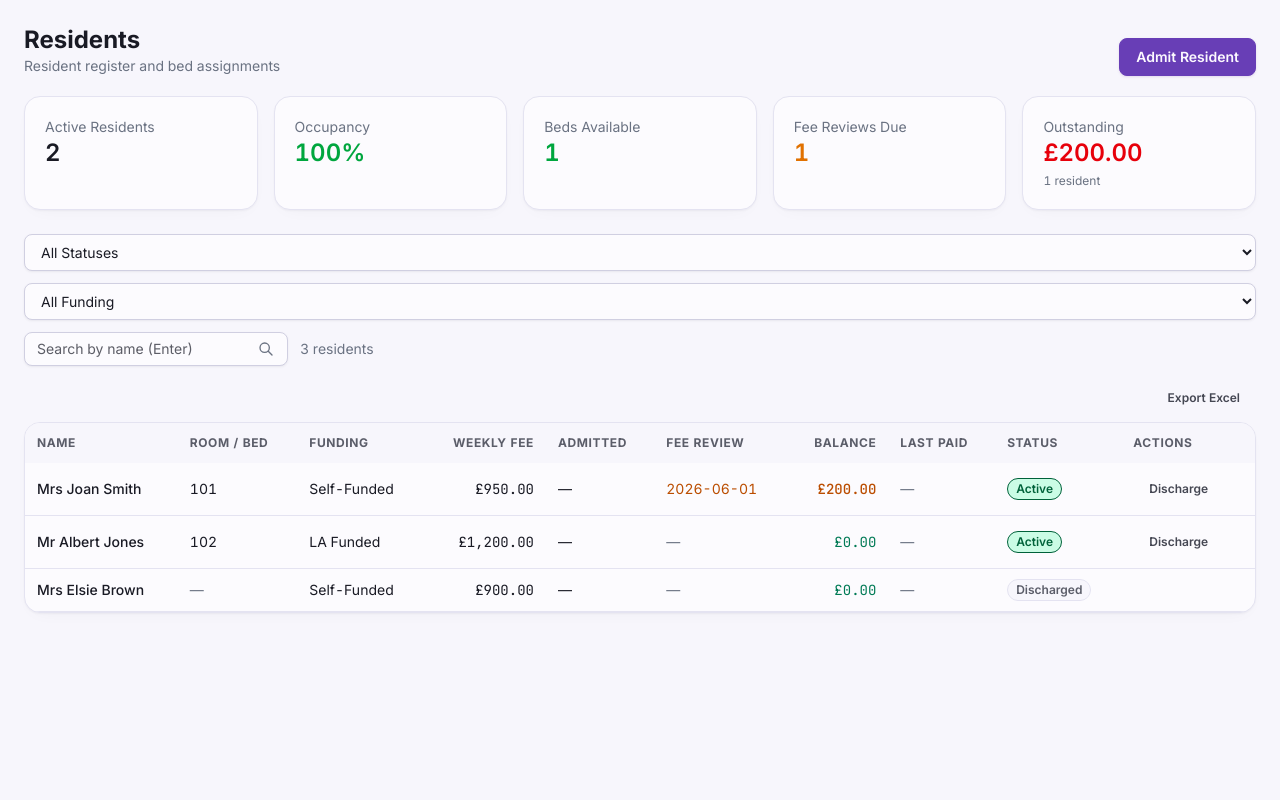
Test case: Residents › clears stale resident rows after a failed reload
Expected: the button "Mrs Joan Smith" is shown, [37, 479, 142, 499]
Select "Self-Funded" in the dropdown named "Filter residents by funding type" at (640, 302), box [24, 283, 1256, 320]
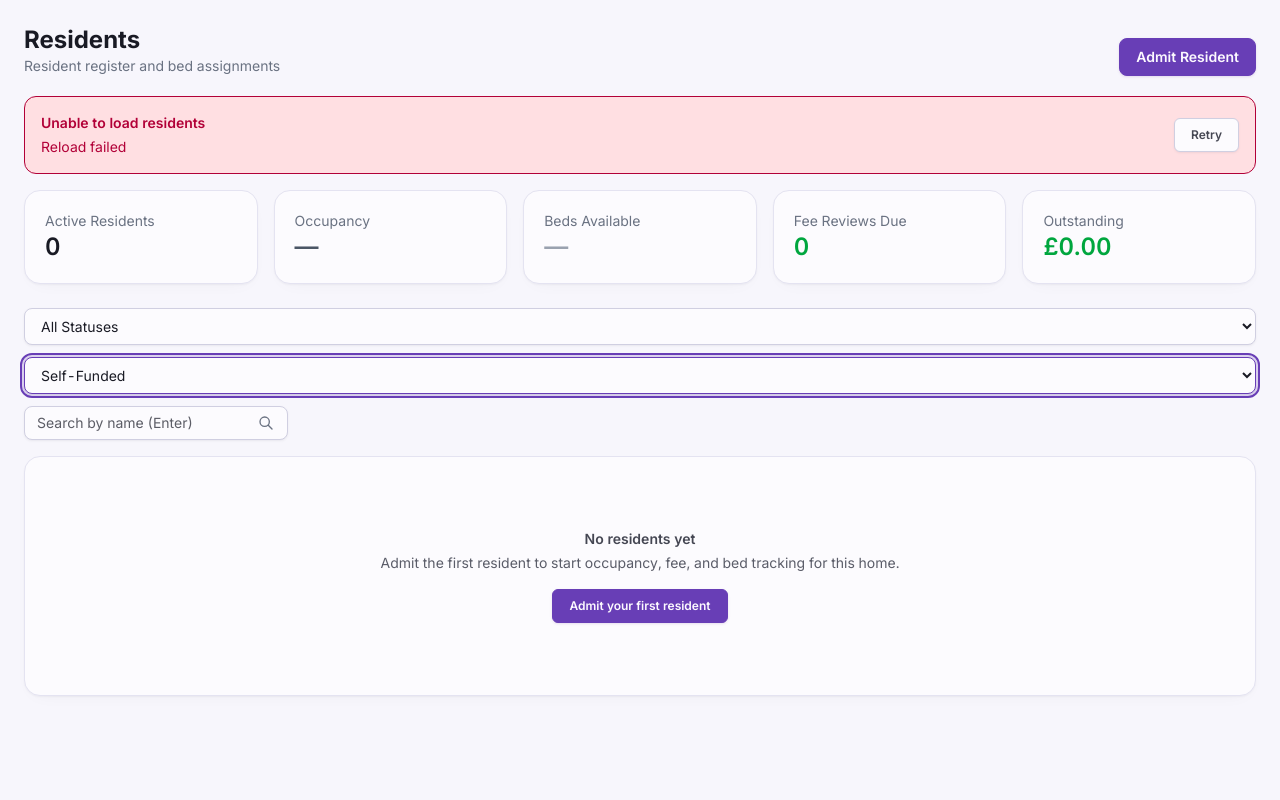
Expected: the text "Reload failed" is shown, [41, 138, 126, 155]
Expected: the button "Mrs Joan Smith" is gone
